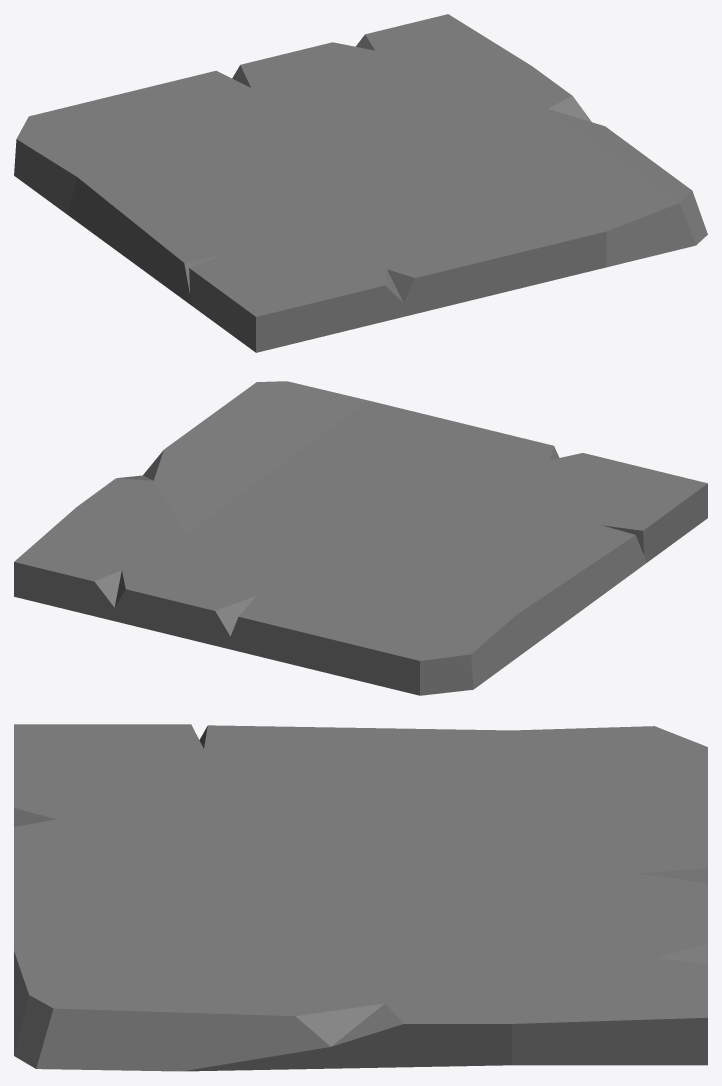
Rendered from stone_4.fbx.
3 views of the same model, one above another, from view 1: azimuth 30°, elevation 25°; view 2: azimuth 150°, elevation 25°; view 3: azimuth 270°, elevation 25° (orthographic). The views are drawn at different scales.
Parts seen in each view (by area): view 1: stone_4; view 2: stone_4; view 3: stone_4.
Part boxes in pixels (left/top/right/bottom): stone_4: left=14, top=14, right=707, bottom=352; stone_4: left=14, top=381, right=707, bottom=695; stone_4: left=14, top=724, right=707, bottom=1071.
Size of the model in its own units: 279 by 23.72 by 273.
